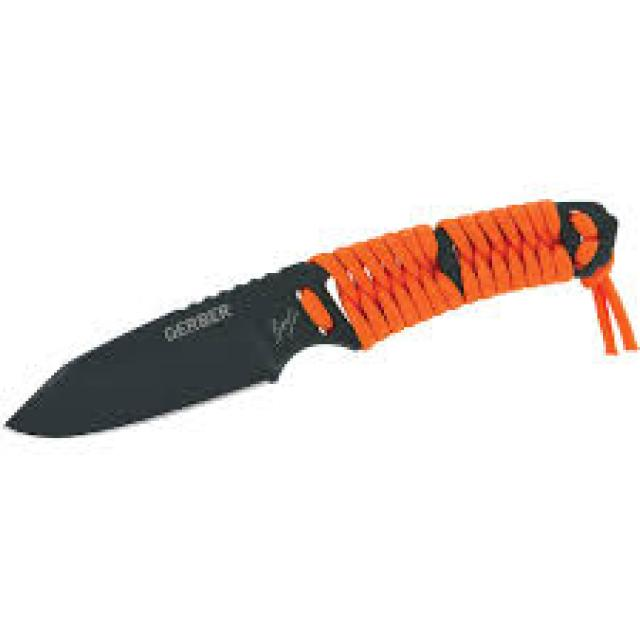knives: (0, 190, 637, 447)
